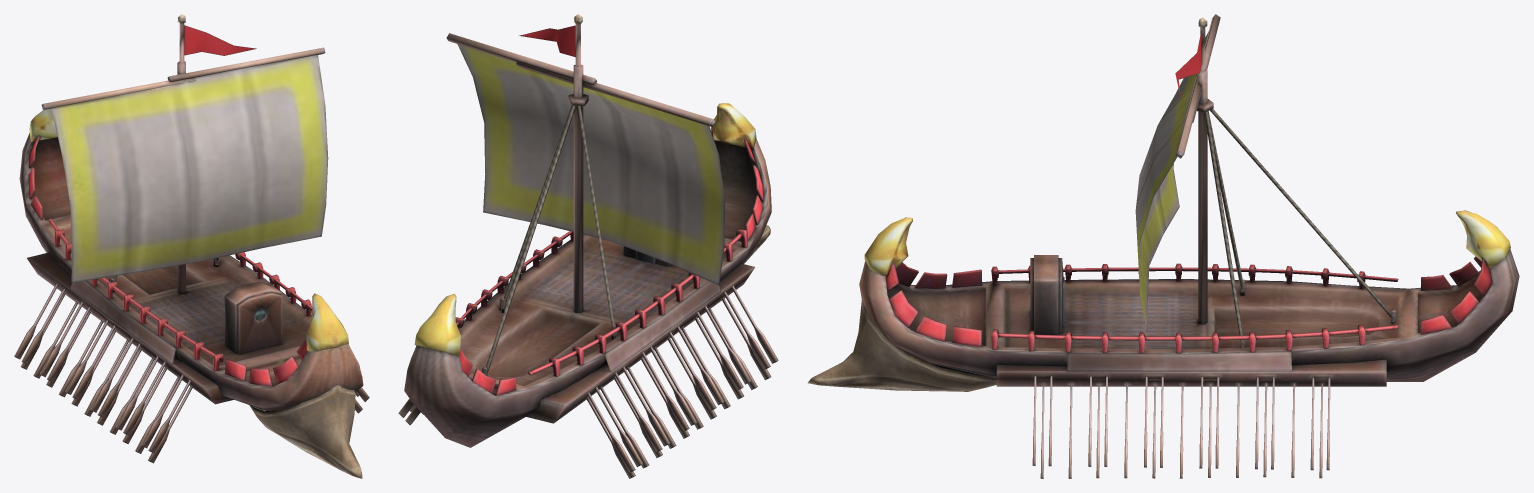
Rendered from Trireme.glb.
3 renders of one model, left to right at view 1: azimuth 30°, elevation 25°; view 2: azimuth 150°, elevation 25°; view 3: azimuth 270°, elevation 25°, orthographic. The views are drawn at different scales.
Parts seen in each view (by area): view 1: low; view 2: low; view 3: low.
Part boxes in pixels (x1,y1,x2,y2): low: (14, 14, 369, 478); low: (398, 14, 778, 478); low: (808, 14, 1519, 478).
Bounding box in the file's own units: 4.96 × 6.64 × 10.53.
1 material, 1 textured.
